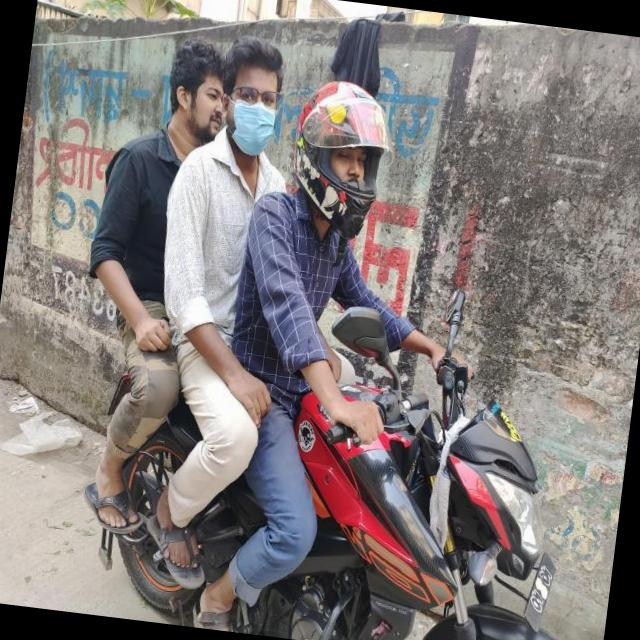motorcycle: (70, 251, 640, 640)
person: (183, 52, 512, 640), (114, 29, 312, 586), (47, 16, 236, 558)
